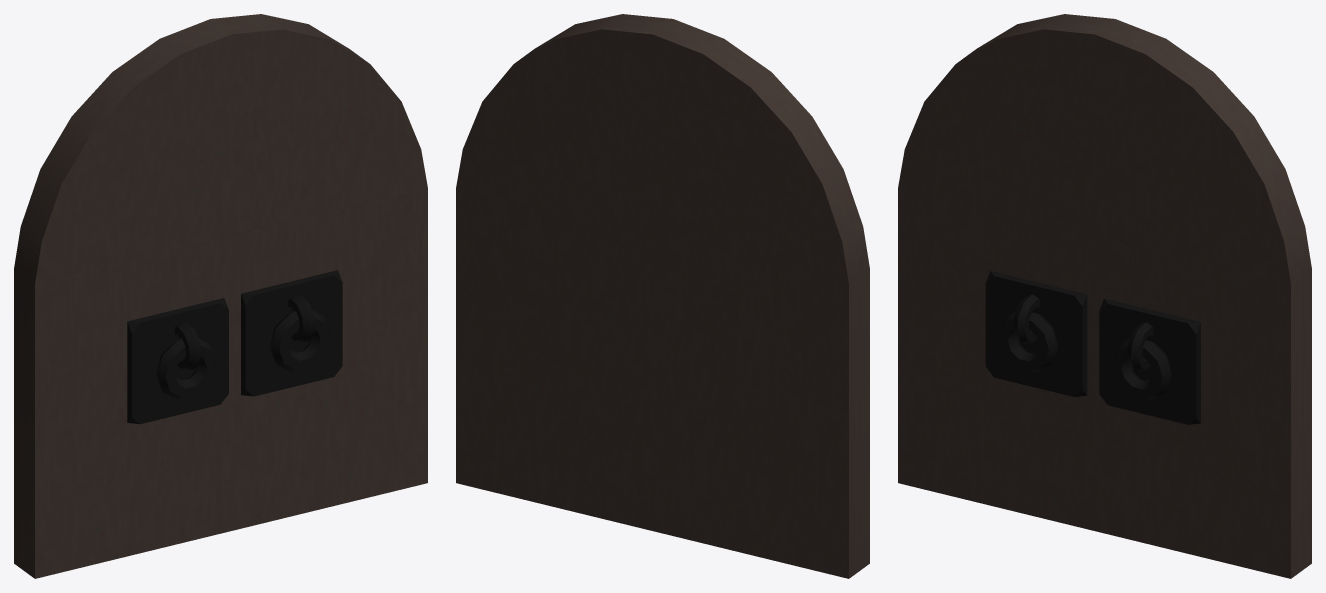
File: Door_door.obj
3 views of the same model, side by side, from view 1: azimuth 30°, elevation 25°; view 2: azimuth 150°, elevation 25°; view 3: azimuth 330°, elevation 25° (orthographic).
Visible parts, largest first — view 1: Cylinder.038_Door.Full.003; view 2: Cylinder.038_Door.Full.003; view 3: Cylinder.038_Door.Full.003.
Part boxes in pixels (<box>): Cylinder.038_Door.Full.003: <box>14,14,427,578</box>; Cylinder.038_Door.Full.003: <box>456,14,869,578</box>; Cylinder.038_Door.Full.003: <box>898,14,1311,578</box>.
Bounding box in the file's own units: 44.56 × 53.83 × 8.41.
